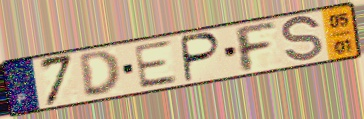7: (39, 52, 76, 110)
D: (76, 48, 124, 98)
E: (131, 38, 181, 91)
F: (230, 20, 280, 75)
P: (181, 30, 223, 84)
S: (280, 13, 326, 65)
